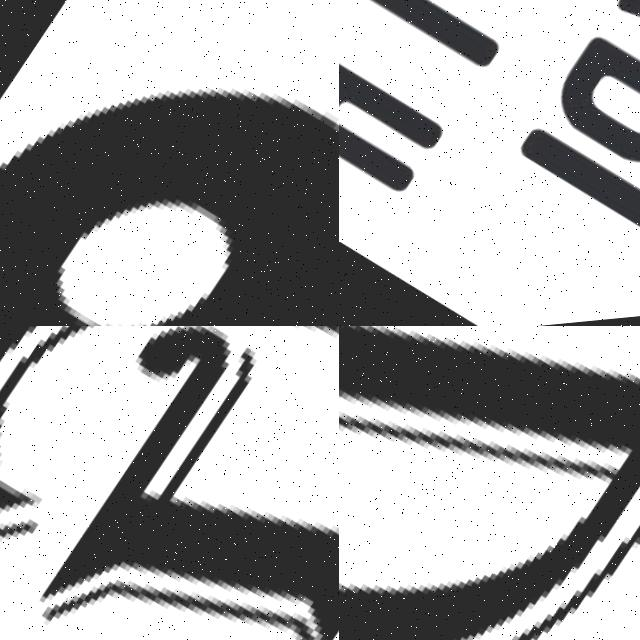9: (0, 0, 339, 326)
B: (536, 20, 640, 267)
D: (339, 326, 640, 640)
G: (0, 326, 339, 640)
H: (339, 0, 453, 209)
L: (477, 107, 640, 326)
T: (339, 0, 524, 115)
